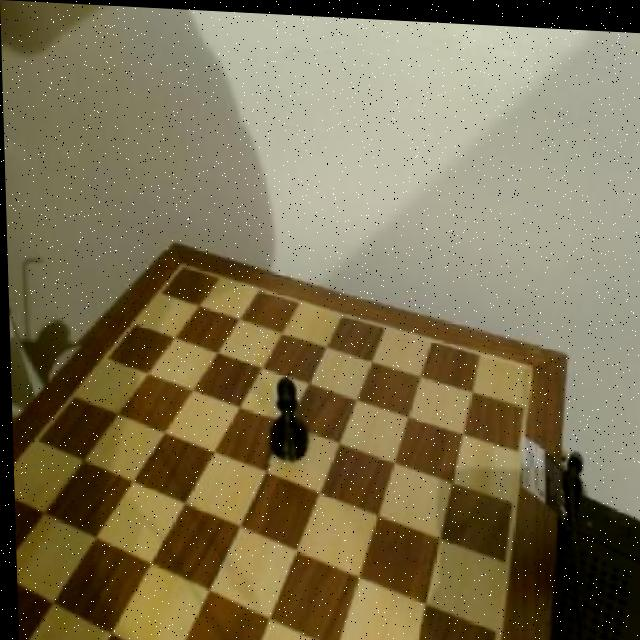black-knight: (262, 375, 312, 466)
